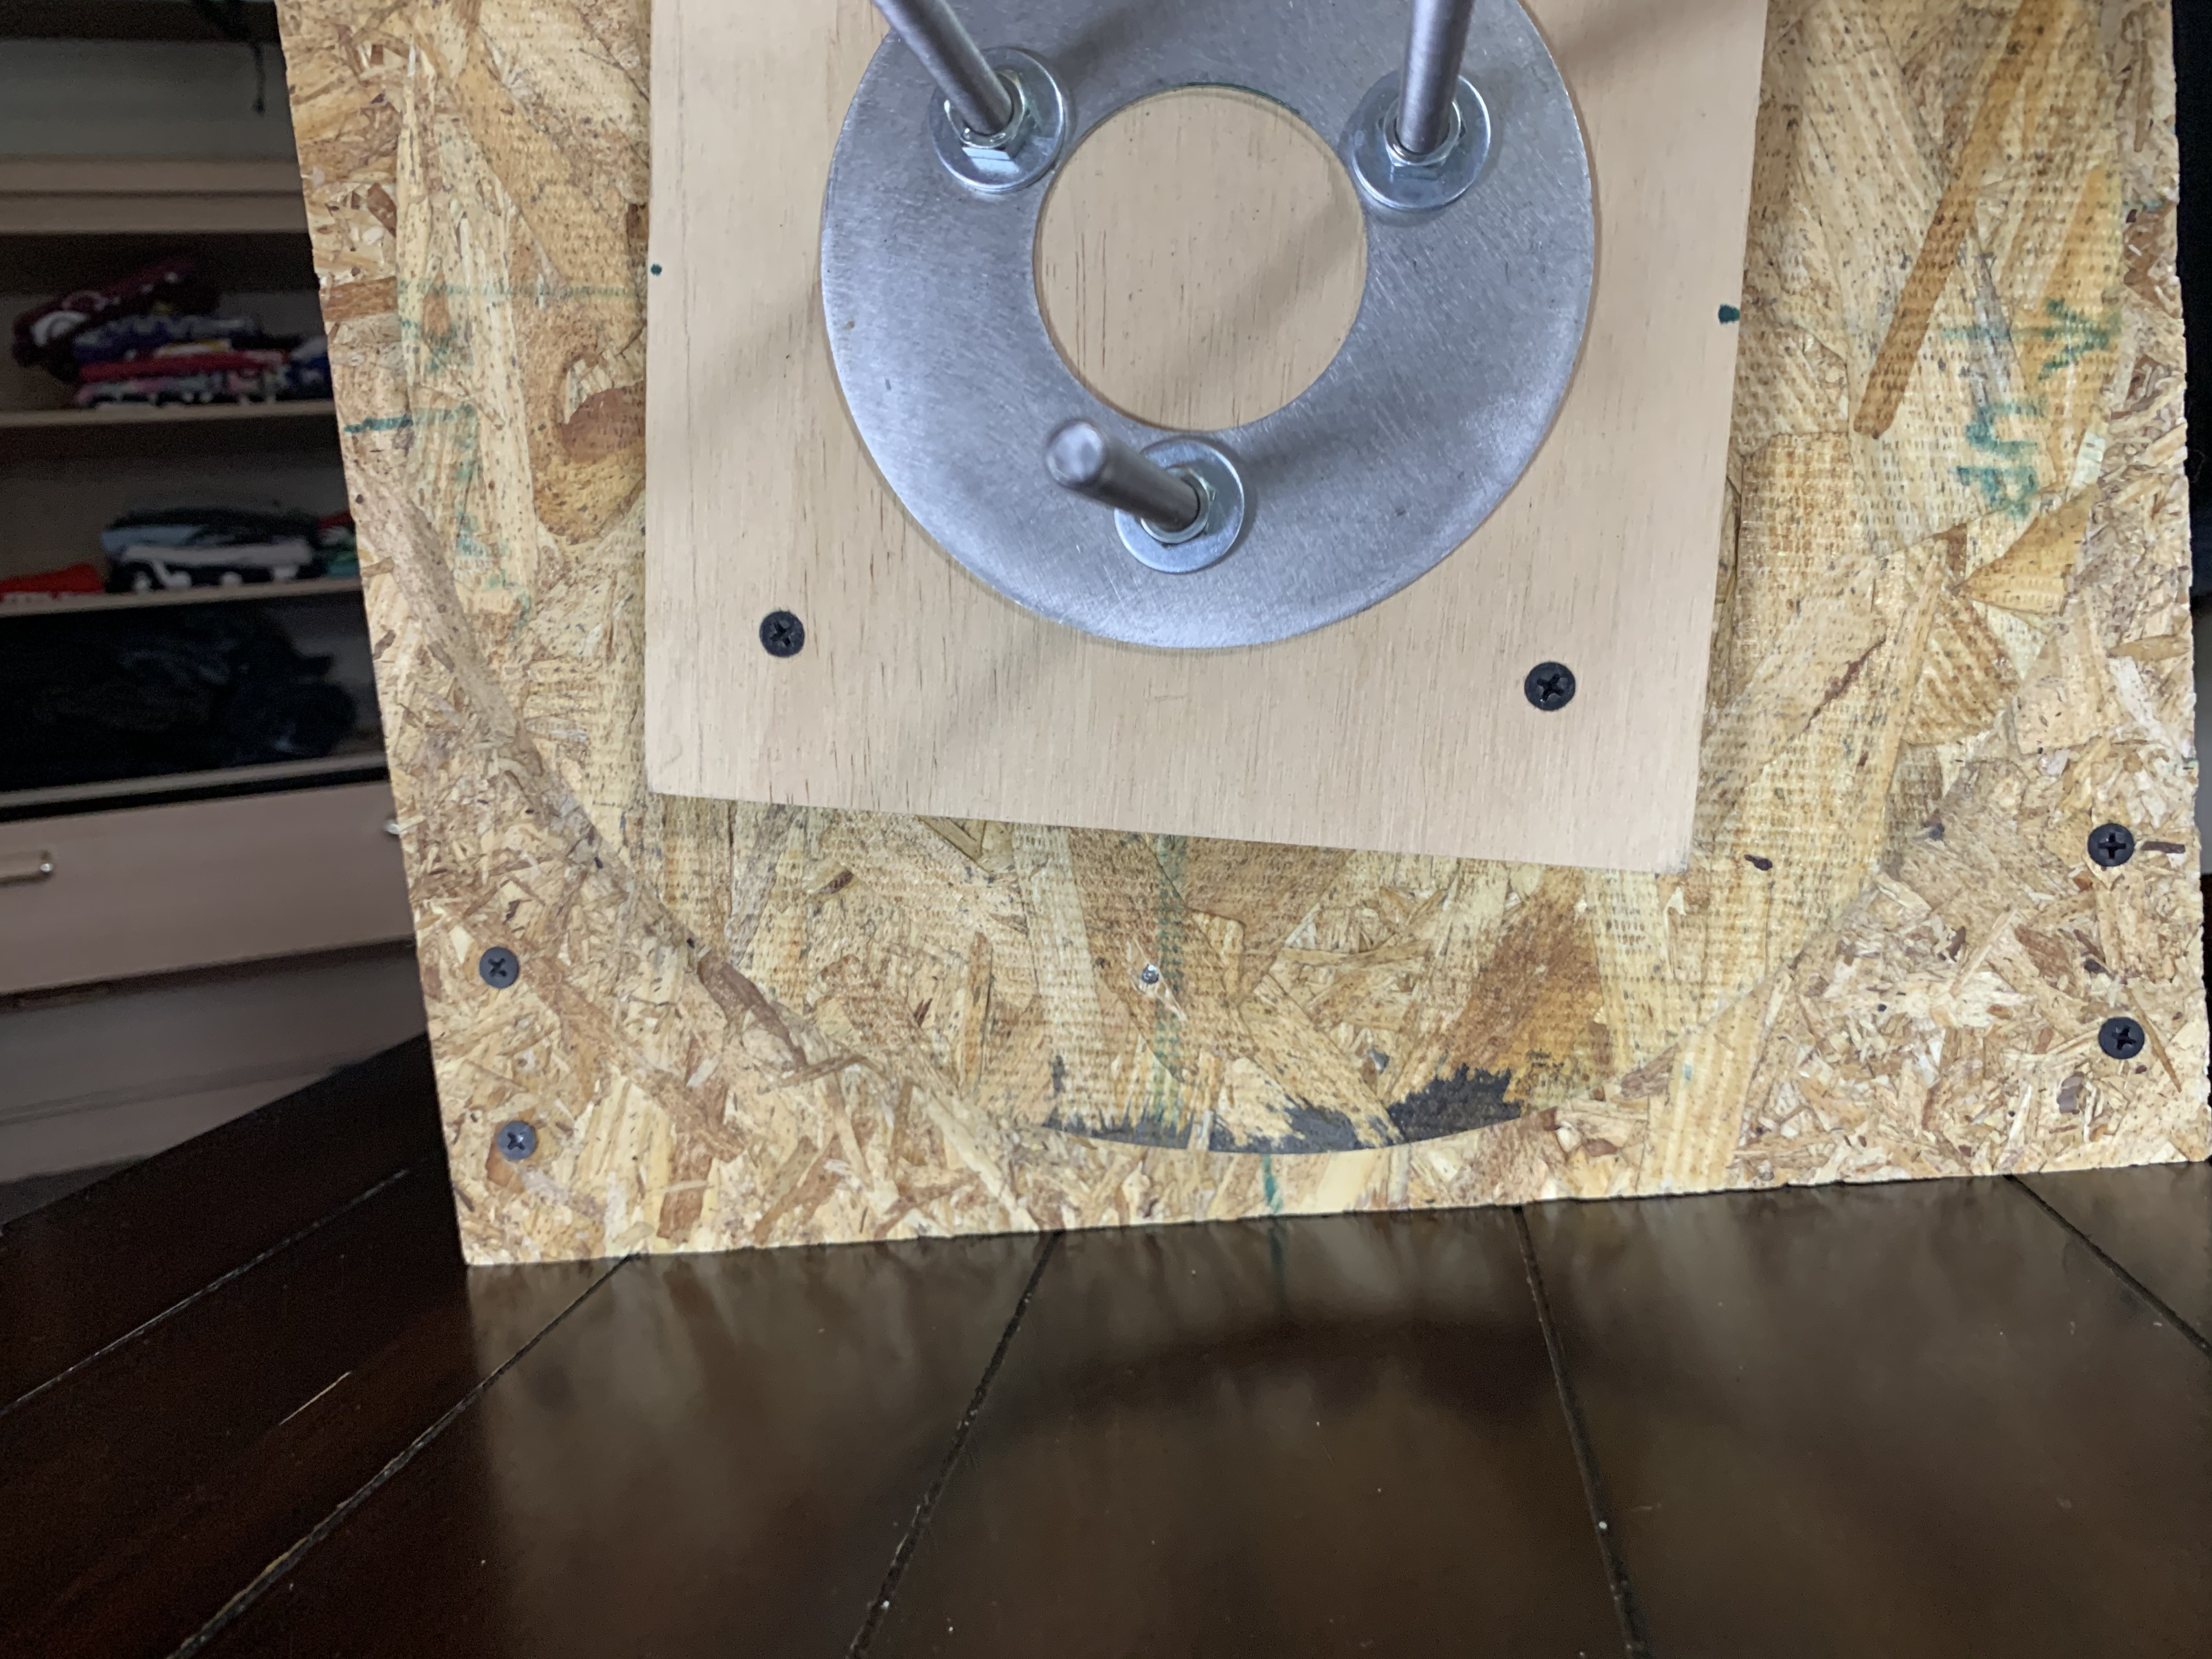bolt: (923, 44, 1076, 200), (1338, 64, 1489, 214), (1108, 436, 1258, 579)
